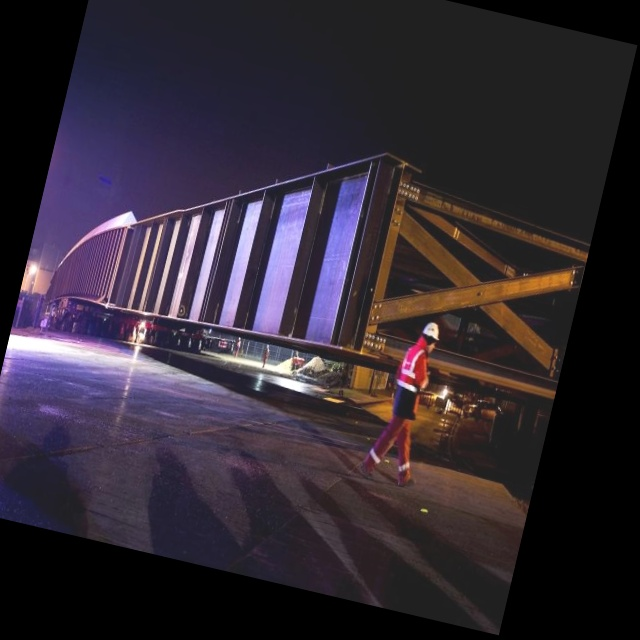Con_Chaleco: (390, 344, 432, 421)
